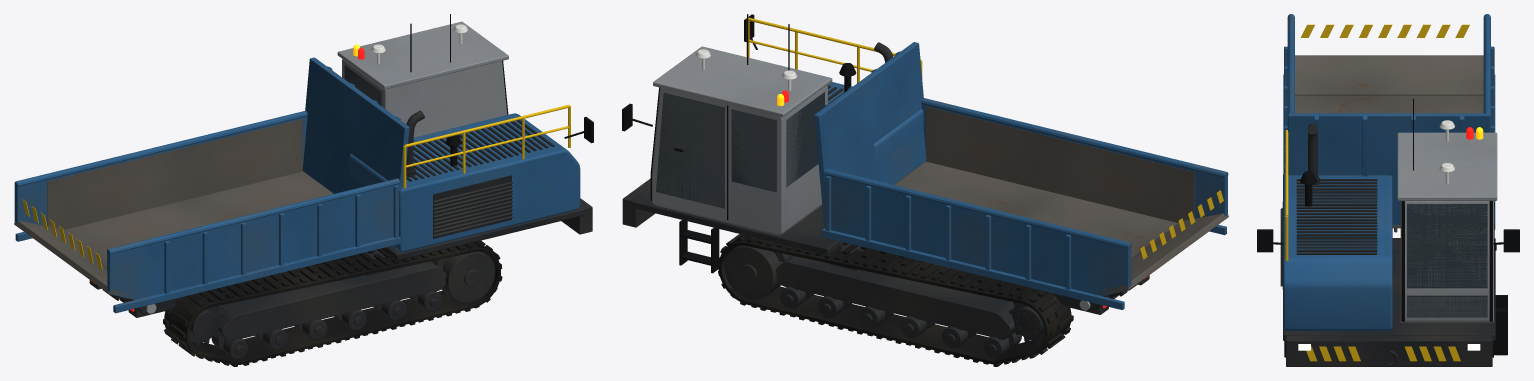
3 views of the same model, side by side, from view 1: azimuth 30°, elevation 25°; view 2: azimuth 150°, elevation 25°; view 3: azimuth 270°, elevation 25° (orthographic). The views are drawn at different scales.
Parts seen in each view (by area): view 1: vessel_side_liner_l, vessel_side_r, track_frame_r, engine_bay, vessel_headboard, vessel_ribs, track_belt_r, vessel_floor, cab_shell, engine_grilles, cab_roof, track_lugs_r (+9 smaller); view 2: cab_shell, vessel_side_liner_r, vessel_side_l, track_frame_l, cab_glass, vessel_headboard, vessel_ribs, track_belt_l, vessel_floor, cab_roof, track_lugs_l, deck (+8 smaller); view 3: engine_bay, cab_shell, cab_glass, vessel_headboard, vessel_tail, cab_roof, engine_grilles, bumper, vessel_floor, deck, cab_trim, vessel_ribs (+7 smaller).
Part boxes in pixels (x1,y1,x2,y2): vessel_side_liner_l: (47,119,302,229); vessel_side_r: (107,184,399,299); track_frame_r: (211,251,495,359); engine_bay: (349,113,580,252); vessel_headboard: (302,57,409,193); vessel_ribs: (14,110,400,313); track_belt_r: (164,242,500,364); vessel_floor: (63,171,333,262); cab_shell: (342,59,507,137); engine_grilles: (406,120,554,238); cab_roof: (337,21,508,89); track_lugs_r: (163,240,502,366); cab_shell: (652,85,827,235); vessel_side_liner_r: (926,106,1194,222); vessel_side_l: (824,174,1131,295); track_frame_l: (724,245,1021,358); cab_glass: (656,92,824,208); vessel_headboard: (814,42,926,228); vessel_ribs: (822,98,1228,309); track_belt_l: (718,235,1071,364); vessel_floor: (894,161,1178,257); cab_roof: (653,46,832,117); track_lugs_l: (718,234,1073,366); deck: (632,188,844,254); engine_bay: (1283,173,1392,331); cab_shell: (1400,201,1493,322); cab_glass: (1407,201,1494,317); vessel_headboard: (1288,113,1490,225); vessel_tail: (1295,55,1483,95); cab_roof: (1397,132,1497,200); engine_grilles: (1280,179,1377,288); bumper: (1286,335,1492,366); vessel_floor: (1295,95,1483,228); deck: (1283,238,1495,340); cab_trim: (1257,201,1519,355); vessel_ribs: (1283,14,1495,229).
Bounding box in the file's own units: 7.37 × 3.53 × 3.26.
18 materials, 8 textured.
